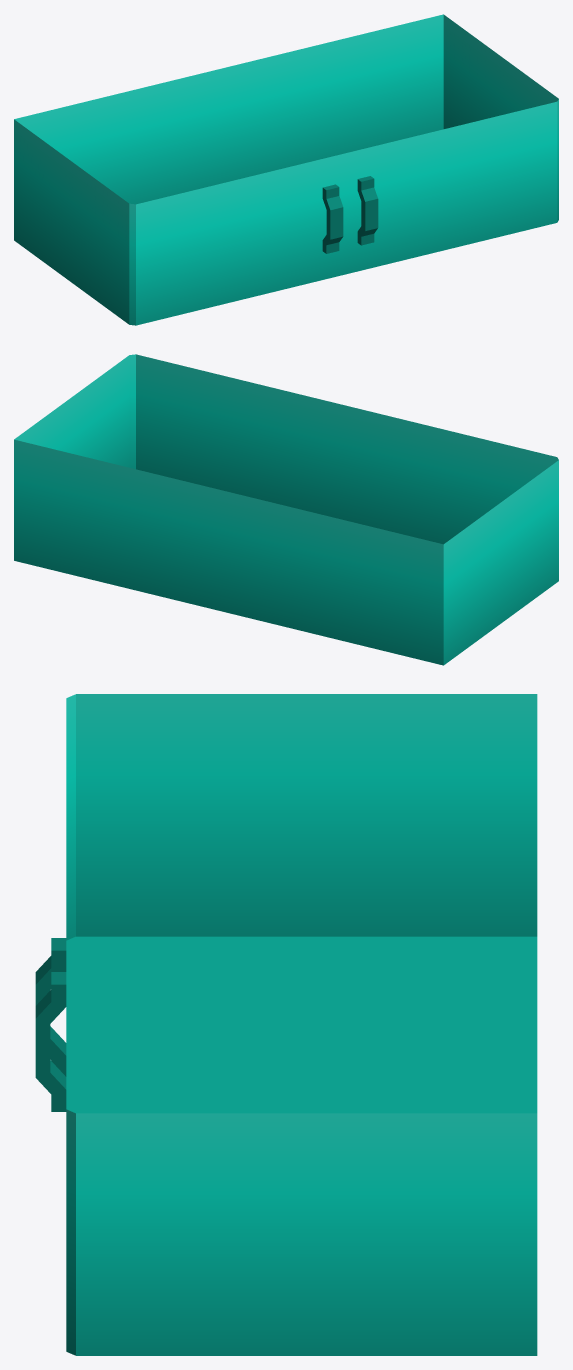
File: Counter_01_v05_D_C05.fbx
3 views of the same model, one above another, from view 1: azimuth 30°, elevation 25°; view 2: azimuth 150°, elevation 25°; view 3: azimuth 270°, elevation 25° (orthographic). The views are drawn at different scales.
Parts seen in each view (by area): view 1: Counter_01_v05_D_C05; view 2: Counter_01_v05_D_C05; view 3: Counter_01_v05_D_C05.
Boxes of the visible parts, x1=… form: Counter_01_v05_D_C05: x1=14, y1=14, x2=558, y2=325; Counter_01_v05_D_C05: x1=14, y1=354, x2=558, y2=665; Counter_01_v05_D_C05: x1=35, y1=694, x2=537, y2=1355.
Bounding box in the file's own units: 200 × 53.91 × 101.
